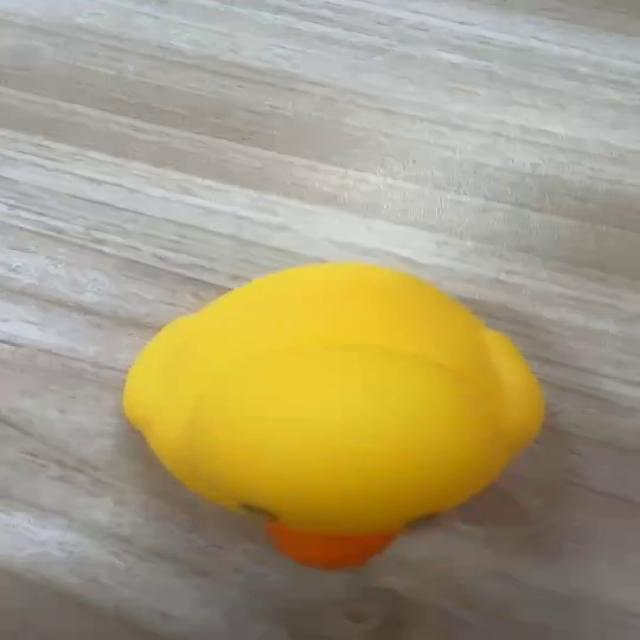yellow_duck: (120, 259, 546, 571)
